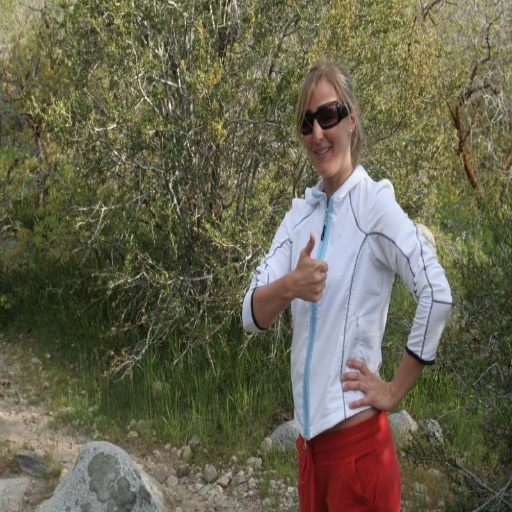hand: (339, 359, 396, 411), (291, 244, 336, 305)
